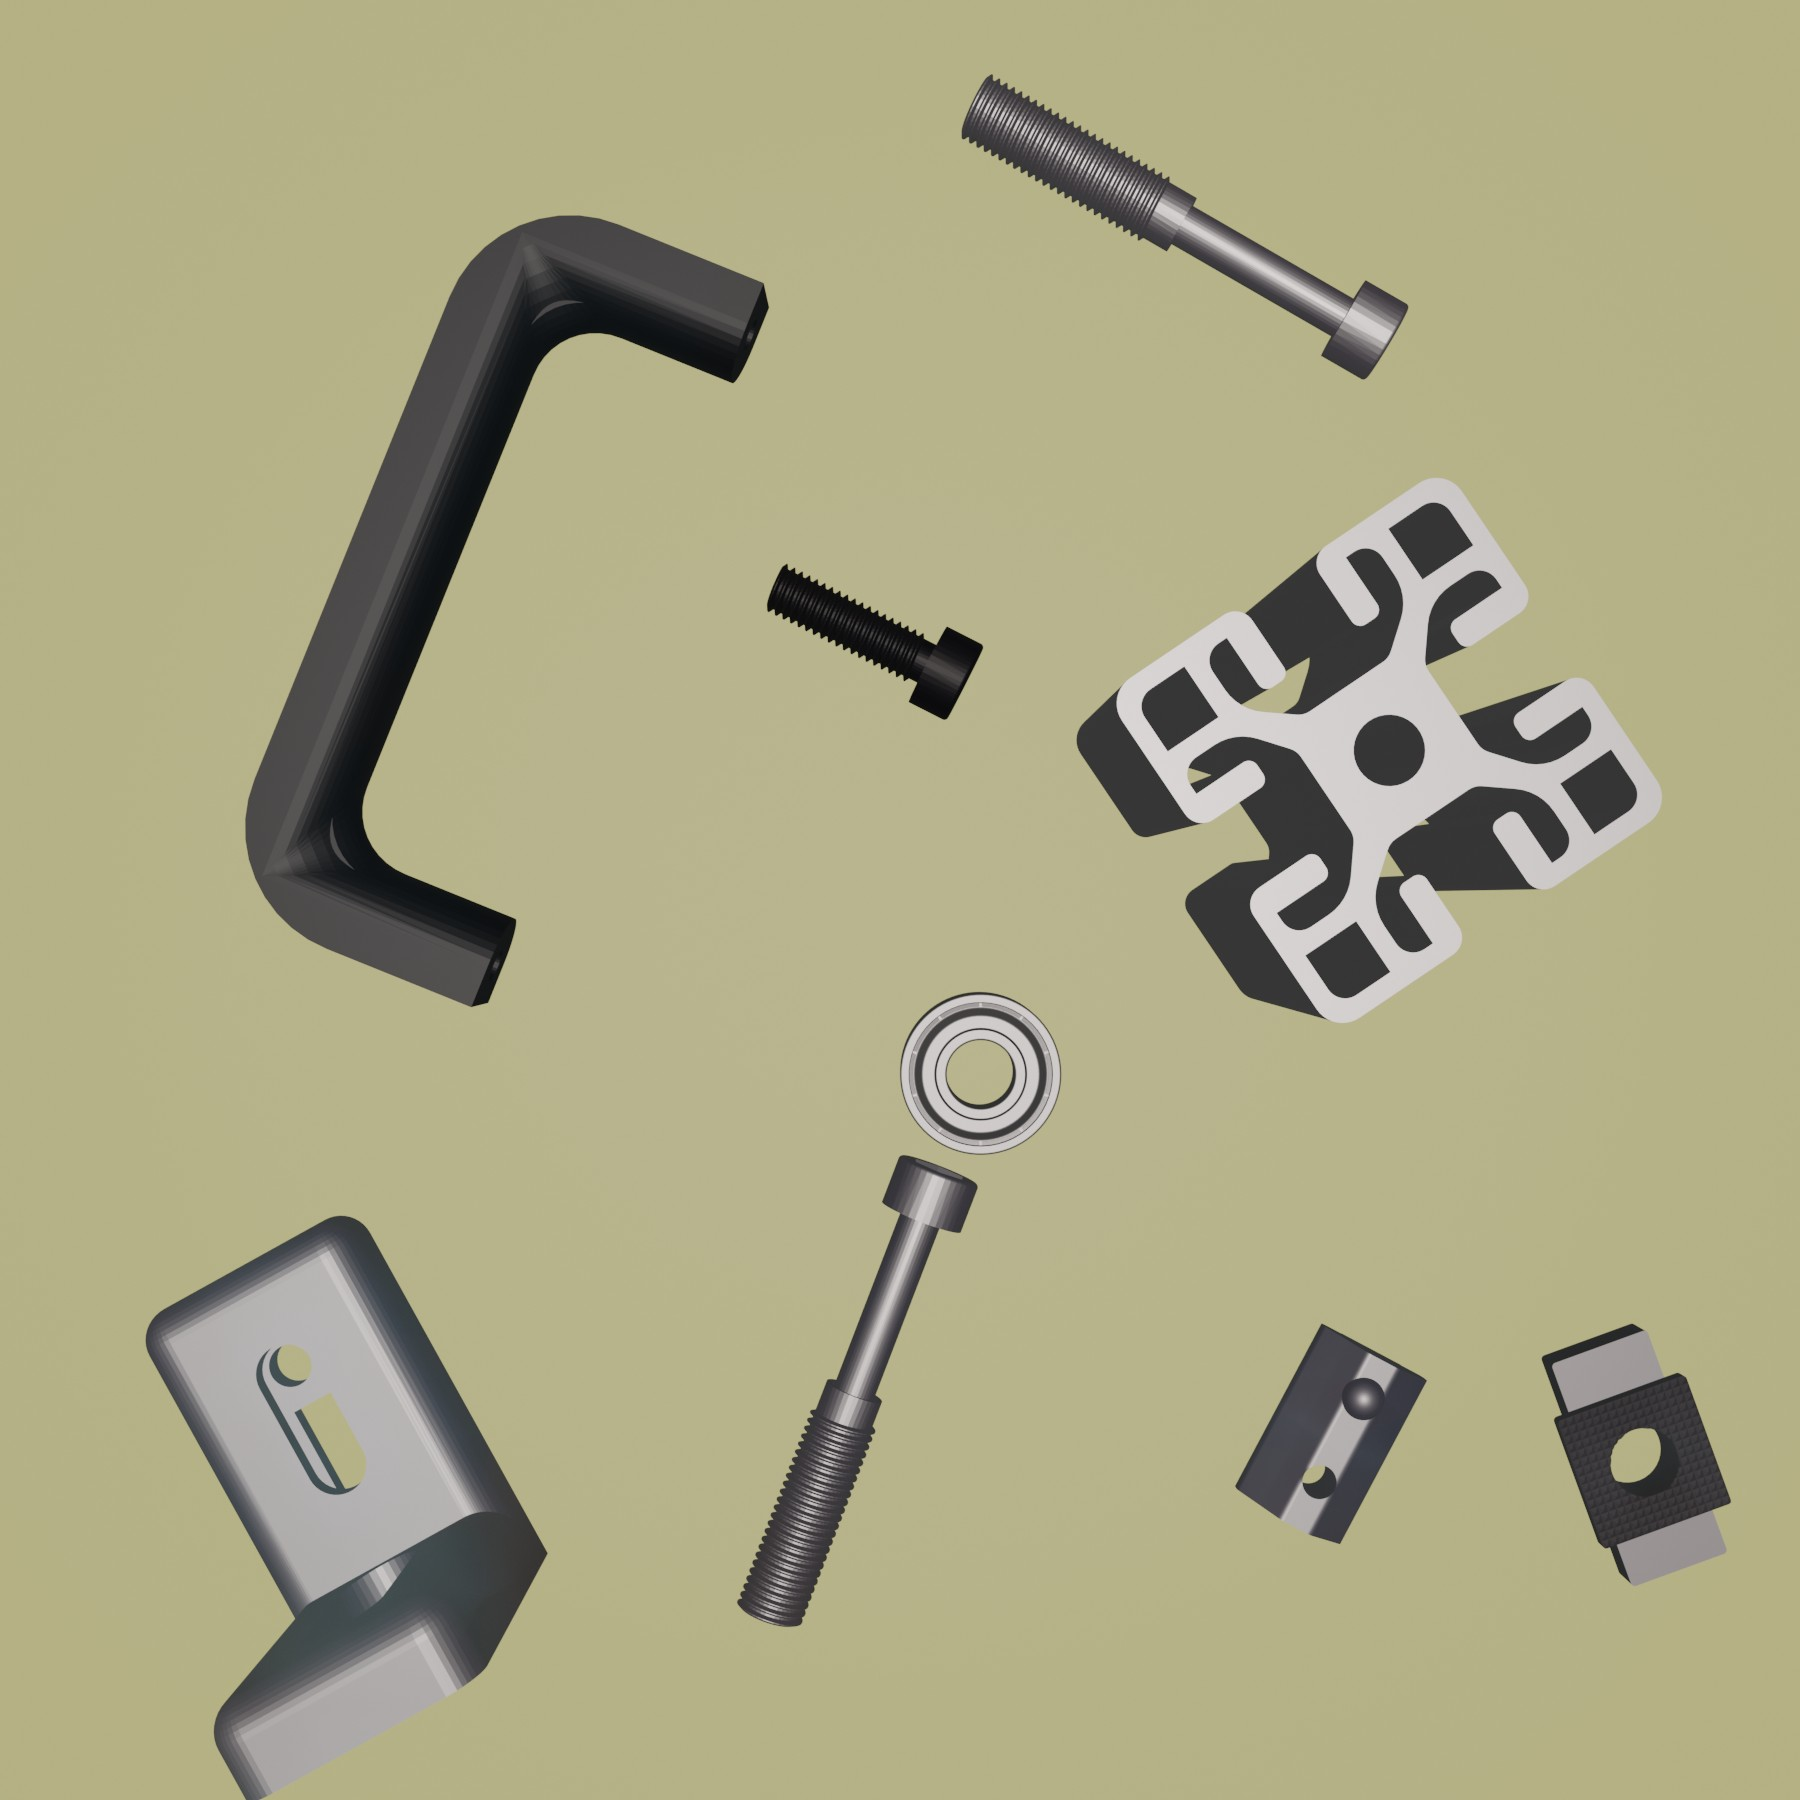Aluminium Extension: (1080, 475, 1666, 1029)
Ball Bearing: (897, 987, 1062, 1157)
Multiwinkel: (143, 1213, 547, 1800)
Pull Handle: (242, 211, 771, 1009)
Shoulder Socket Head Cap Screw: (959, 69, 1413, 386), (734, 1154, 979, 1630)
Socket Head Cap Screw: (762, 560, 982, 724)
T Nut Square: (1538, 1319, 1736, 1589)
T Spring Nut: (1233, 1319, 1427, 1549)
